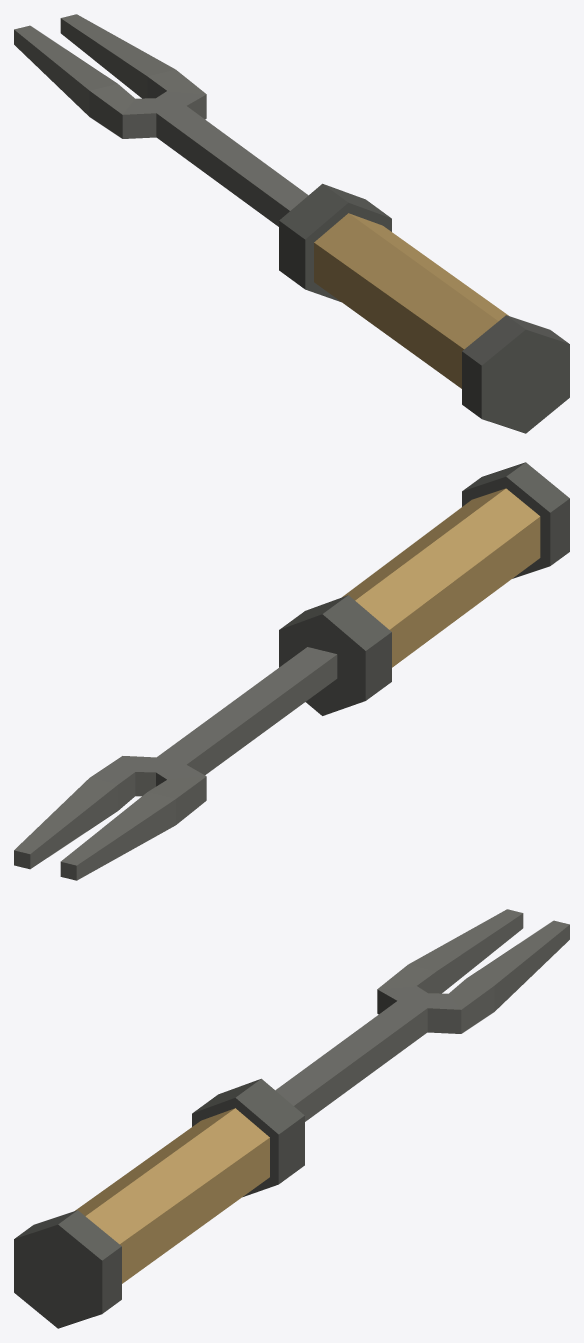
File: fork.gltf
3 renders of one model, top to bottom at view 1: azimuth 30°, elevation 25°; view 2: azimuth 150°, elevation 25°; view 3: azimuth 330°, elevation 25°, orthographic.
Parts seen in each view (by area): view 1: Fork; view 2: Fork; view 3: Fork.
Boxes of the visible parts, left/top/right/bottom form: Fork: left=14, top=14, right=569, bottom=433; Fork: left=14, top=462, right=569, bottom=880; Fork: left=14, top=909, right=569, bottom=1328.
Size of the model in its own units: 0.0315 by 0.0358 by 0.2971.
Materials: 3 (3 with a texture image).
